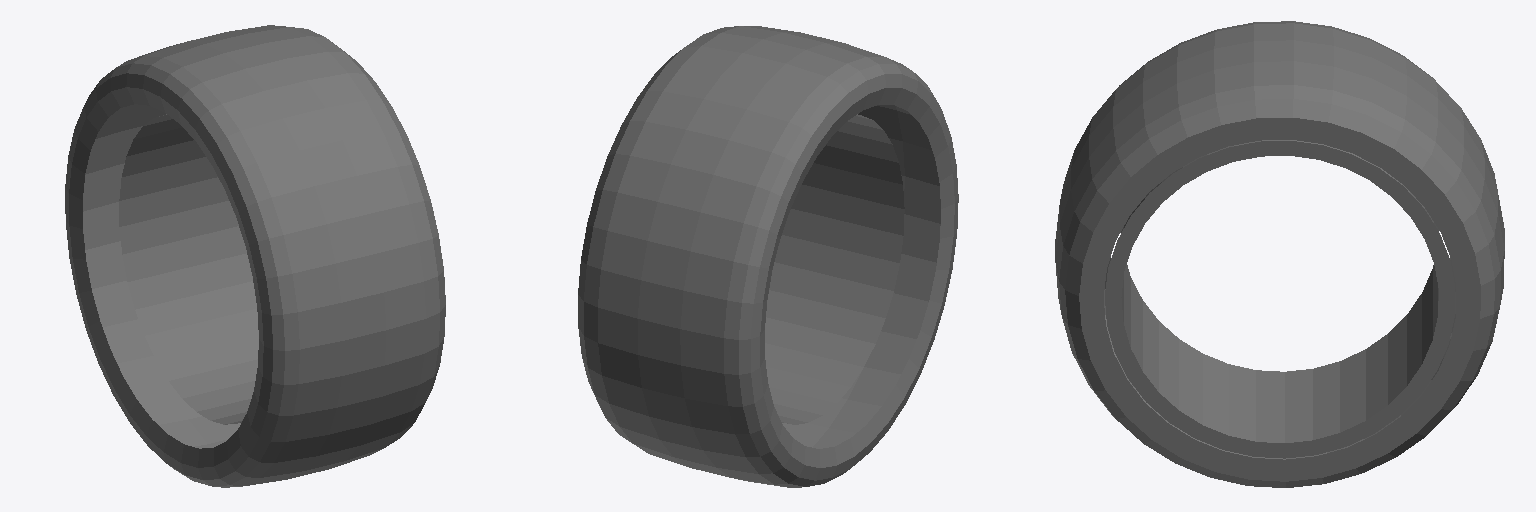
The model's file is Llanta2_Carro.obj.
3 renders of one model, left to right at view 1: azimuth 30°, elevation 25°; view 2: azimuth 150°, elevation 25°; view 3: azimuth 270°, elevation 25°, orthographic.
Parts seen in each view (by area): view 1: Llanta2_Carro; view 2: Llanta2_Carro; view 3: Llanta2_Carro.
Boxes of the visible parts, x1,y1,x2,y2 form: Llanta2_Carro: [65, 25, 445, 487]; Llanta2_Carro: [578, 26, 958, 487]; Llanta2_Carro: [1055, 21, 1504, 487].
Bounding box in the file's own units: 9.67 × 21.02 × 21.01.